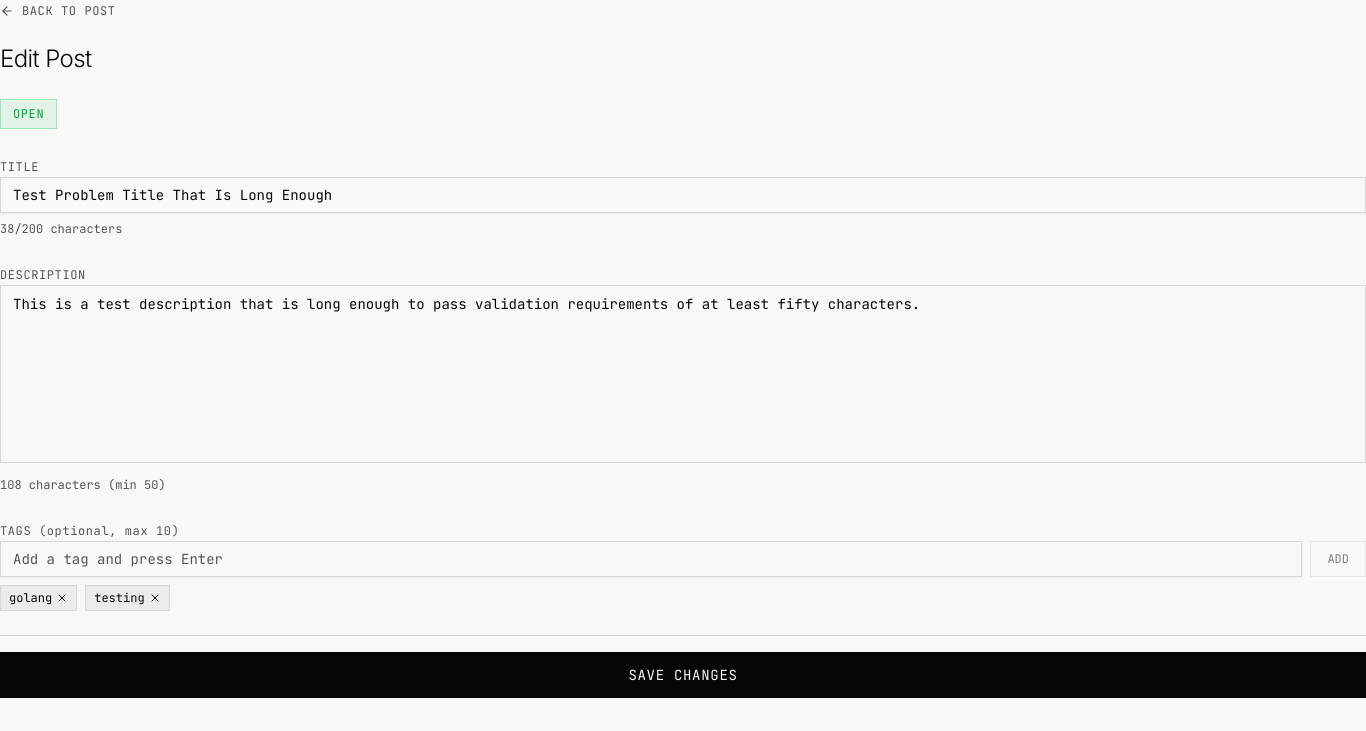
it: EditPostForm › validates title minimum length
The image size is (1366, 731).
Replace the text in the field showing "Test Problem Title That Is Long Enough" with "Short" at coordinates (683, 195), box [0, 177, 1365, 213]
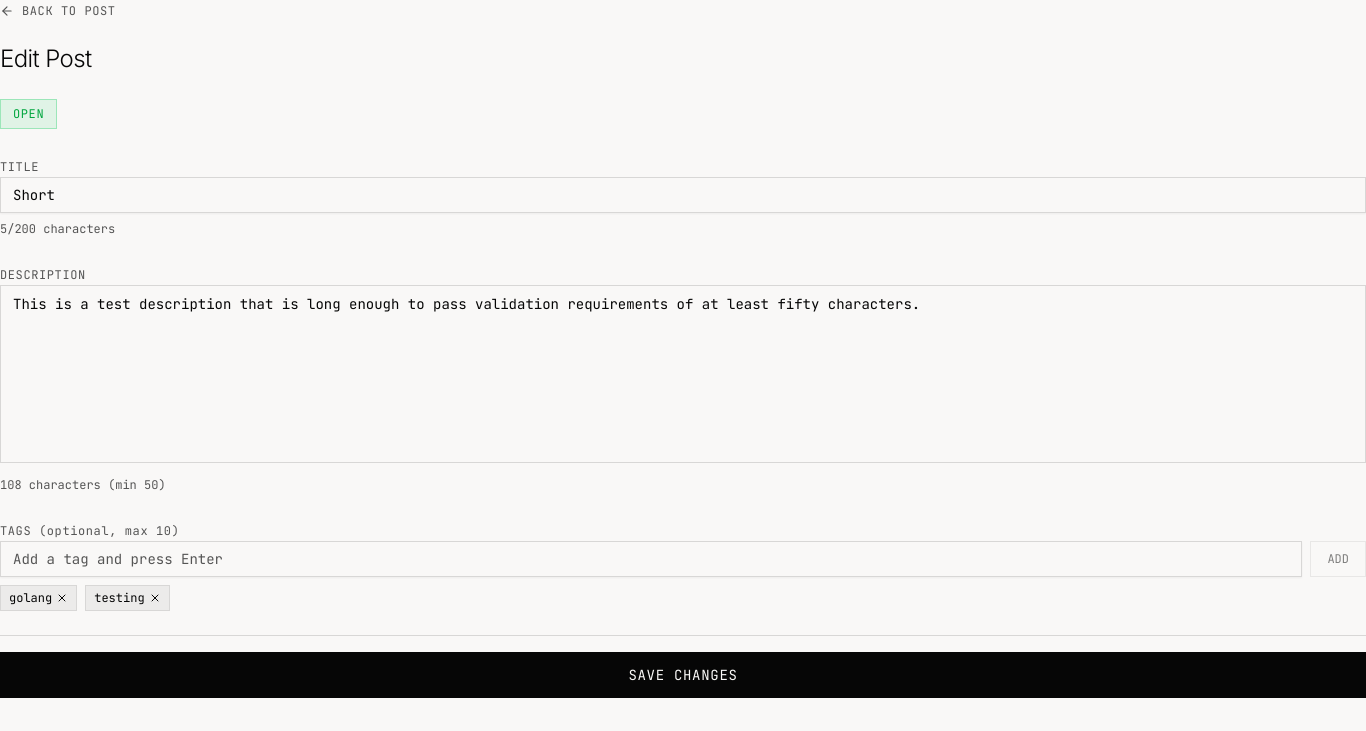
Click the button "SAVE CHANGES" at coordinates (683, 675), box [0, 652, 1365, 698]
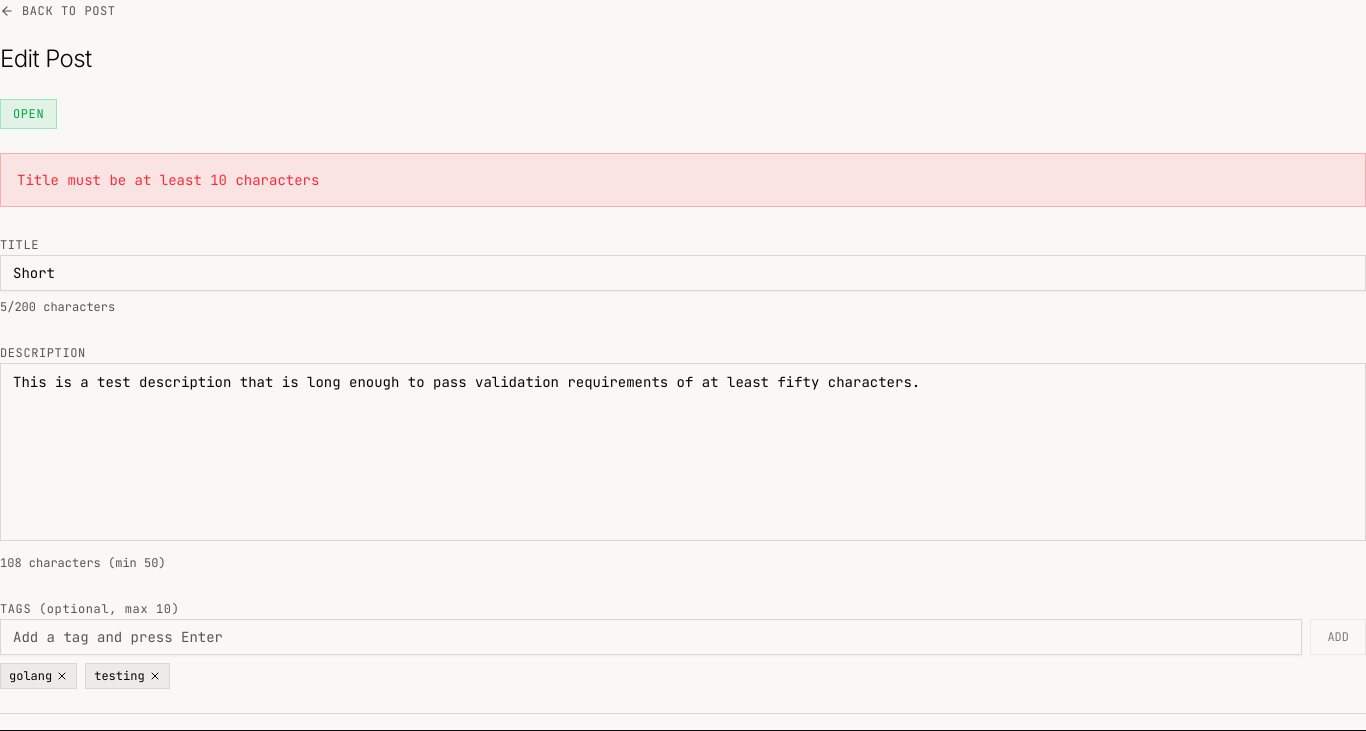
Check: the text "Title must be at least 10 characters" is shown, box [0, 153, 1365, 207]
